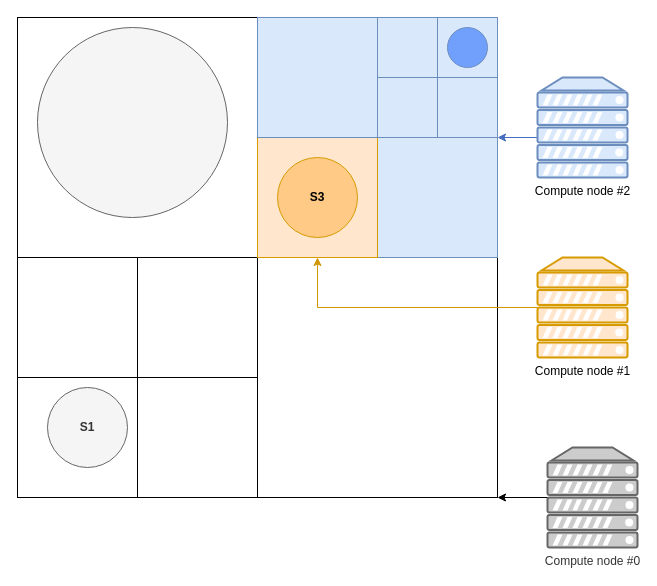
Some shapes in this 657 by 586 pixel diagram are drawn without their labels. Here are the shapes that lost their labels. From the top down, the box of each, then its label:
(446, 26, 488, 68): S4
(36, 26, 228, 218): S2
